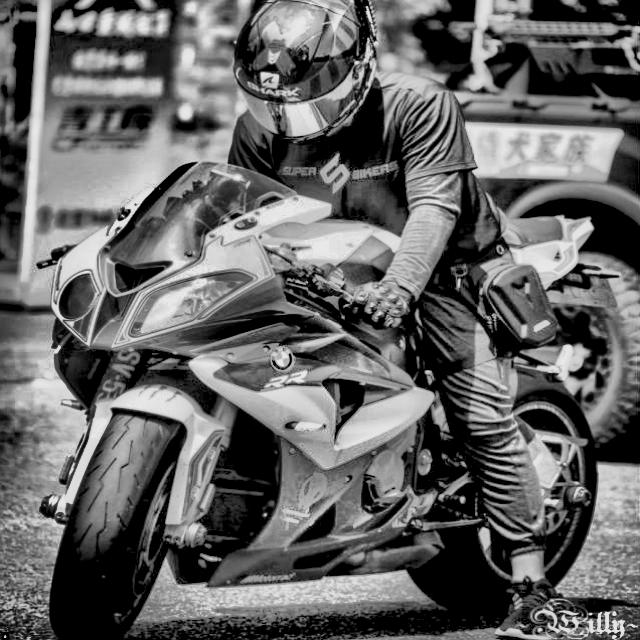Helmet: (228, 0, 386, 150)
